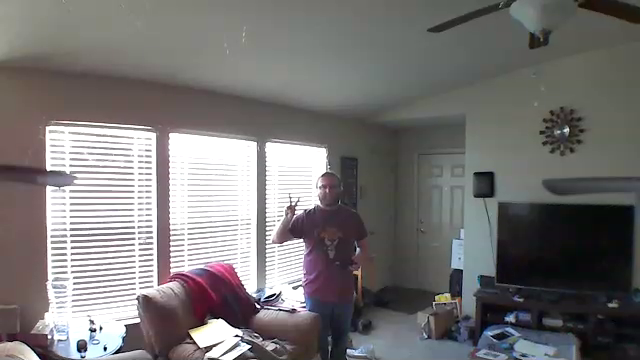peace: (284, 190, 302, 218)
